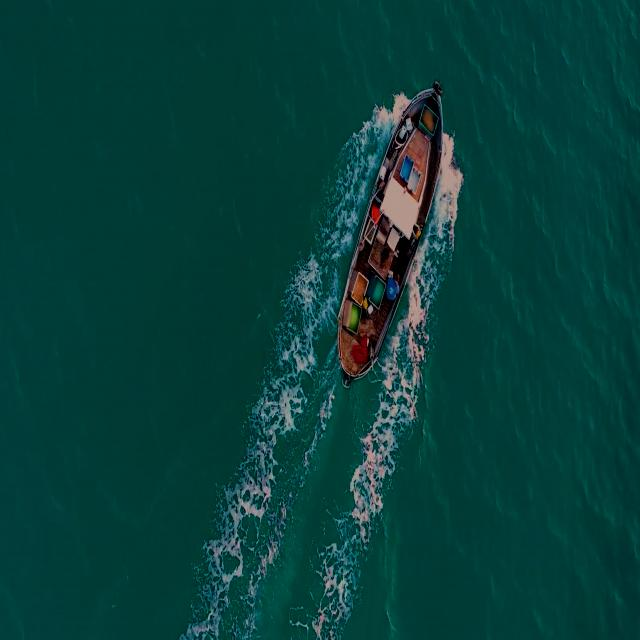ship: (334, 79, 446, 382)
